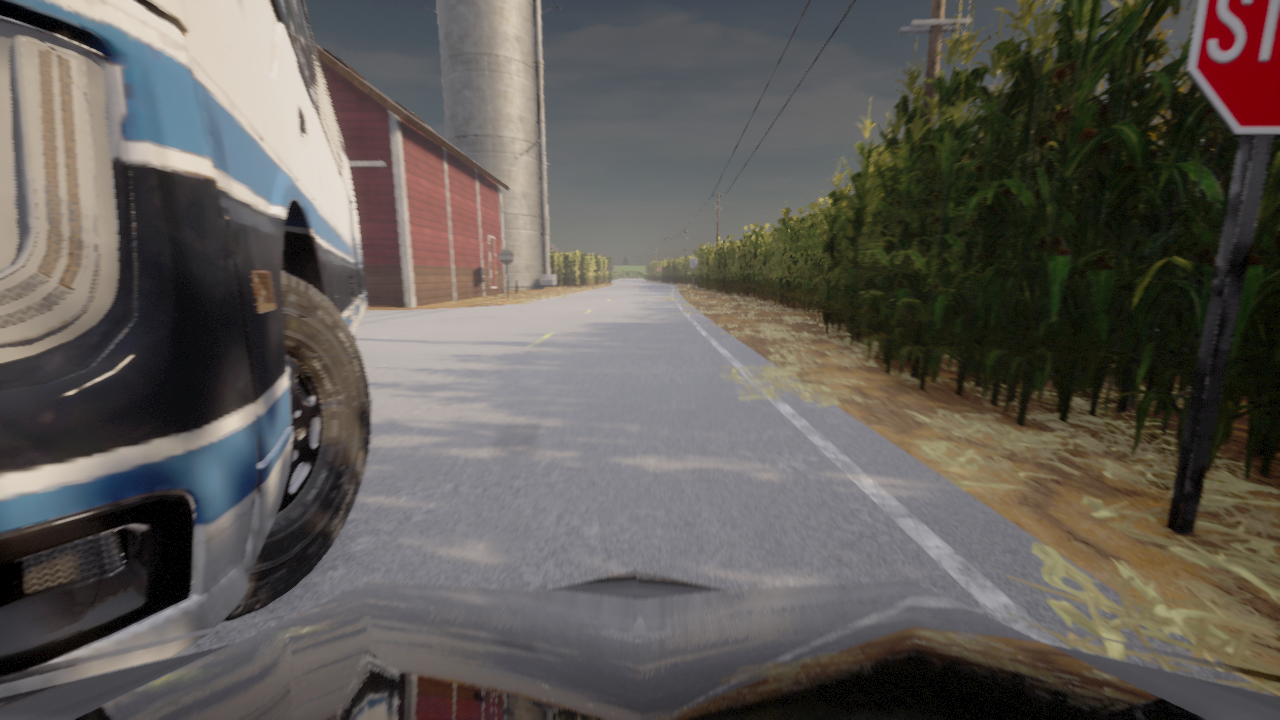cyclist: (0, 0, 371, 696), (0, 569, 1279, 719)
